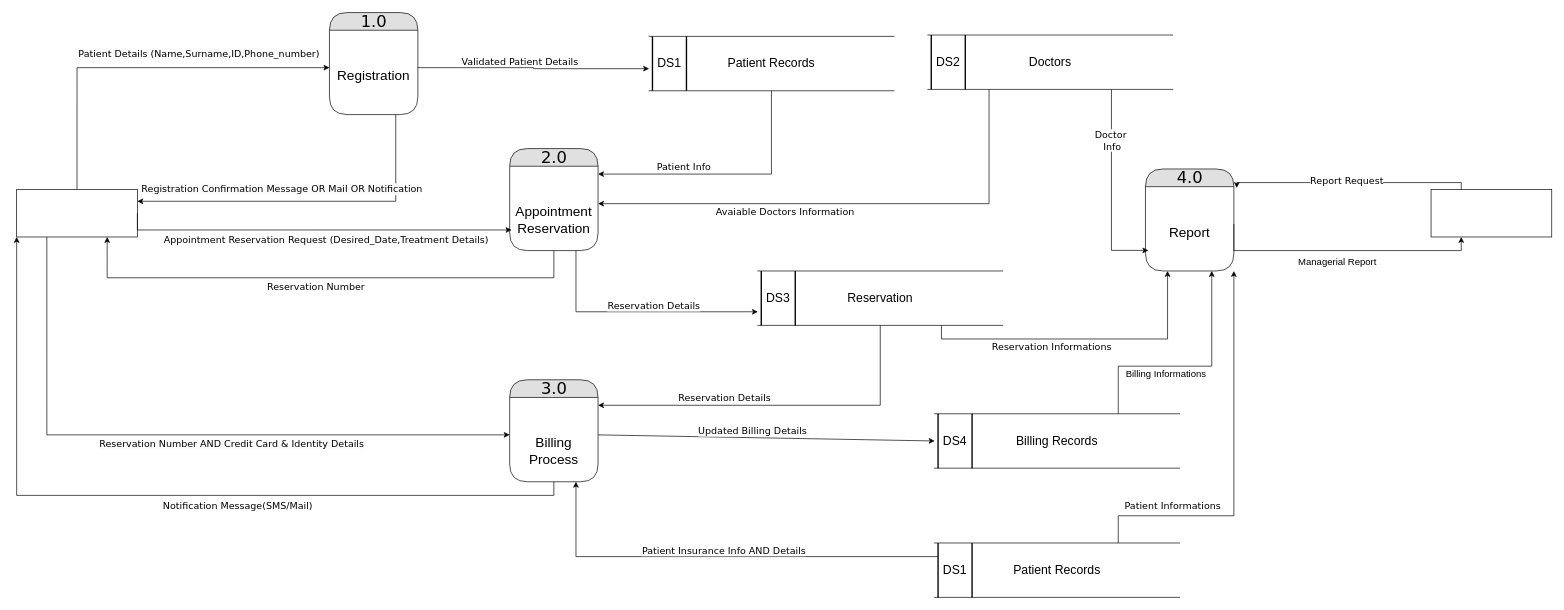
Some shapes in this 1564 by 610 pixel diagram are drawn without their labels. Each missing label, with the centre of its shape:
"Manager" goes at (1491,213).
"Patient" goes at (76,213).
